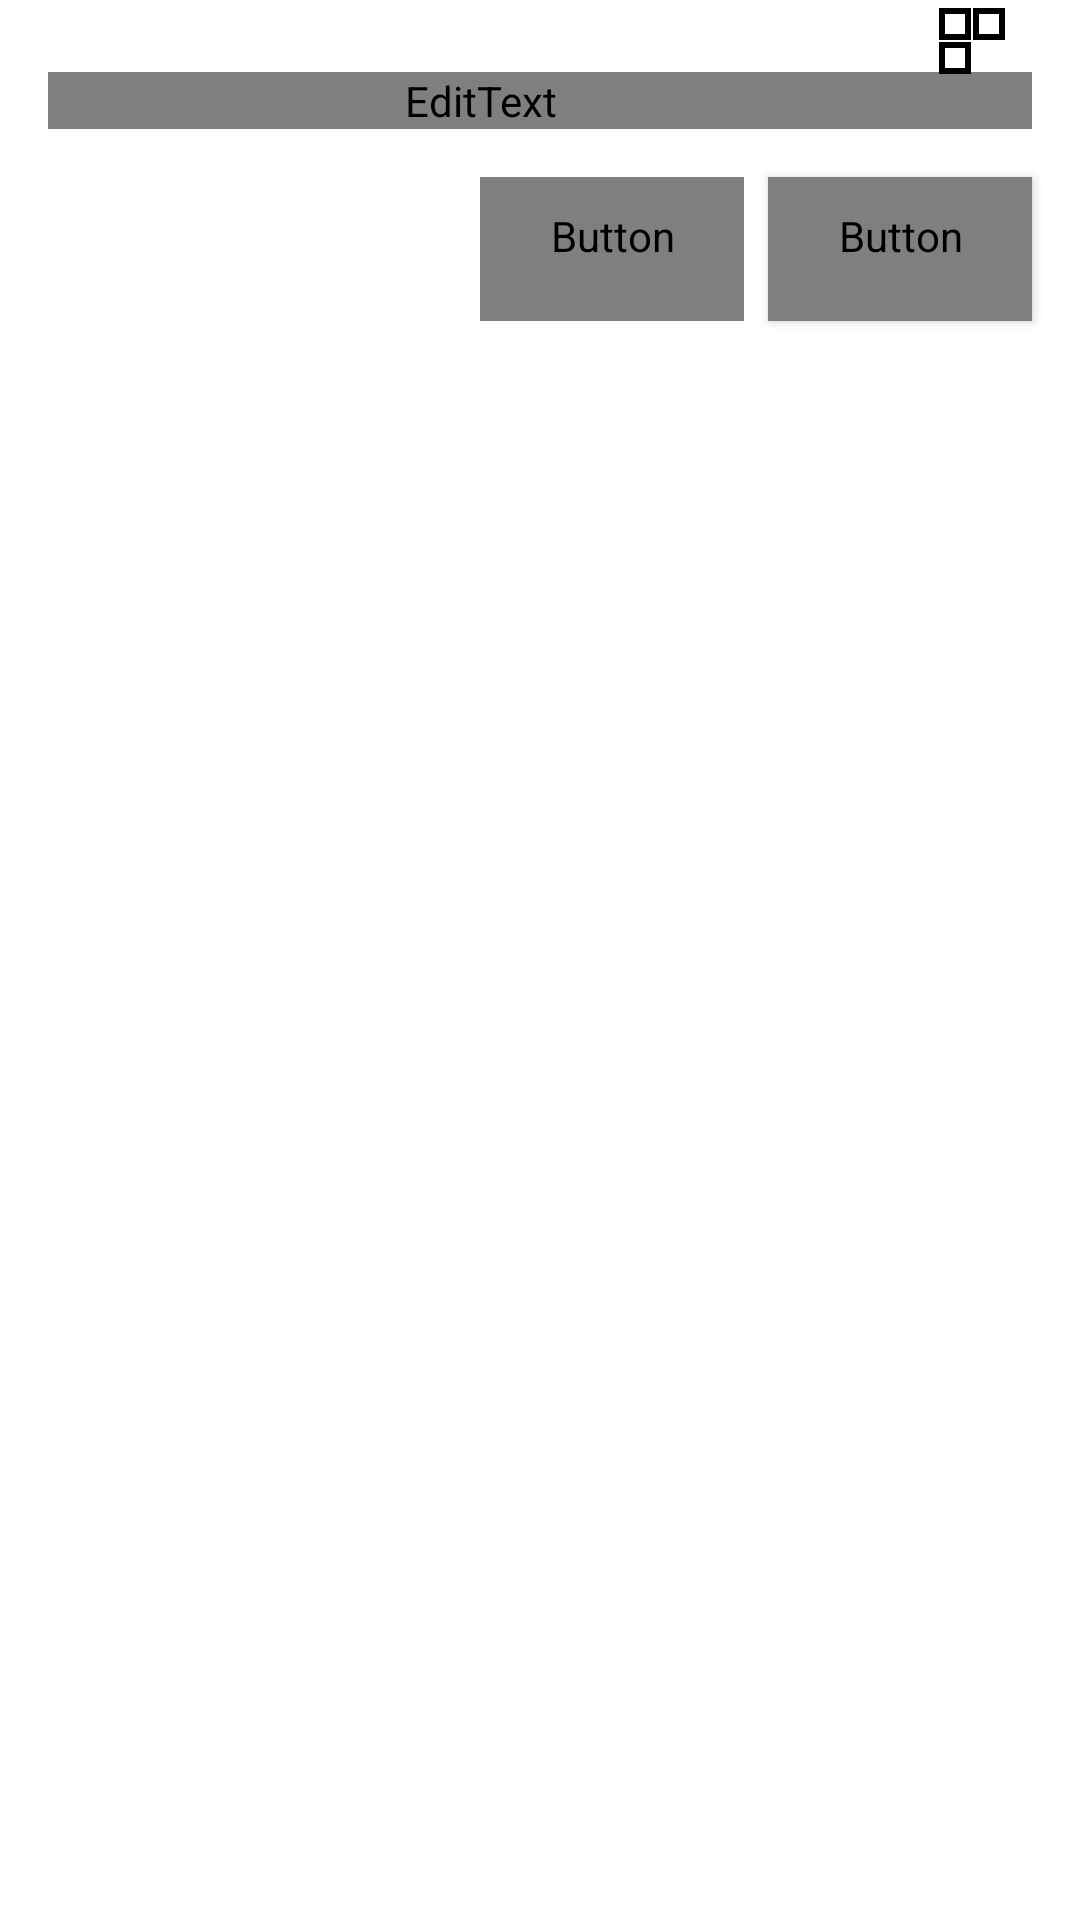

Named icons in this screenshot (1080*1920) and their centers, (x=x, y=y):
qr code: (x=972, y=40)
